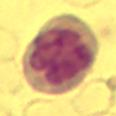lymphocyte: (19, 14, 102, 93)
